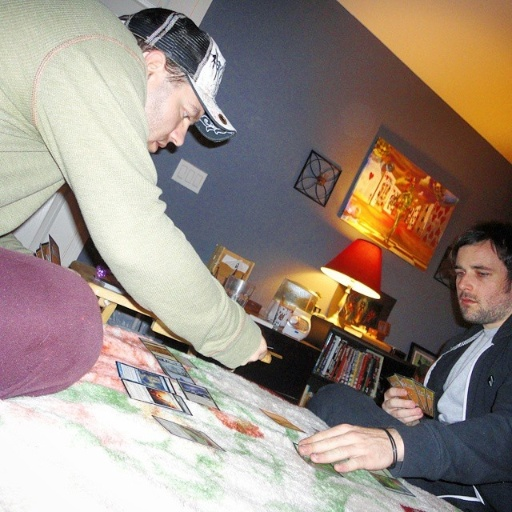hand: (293, 419, 406, 475), (382, 385, 424, 427), (238, 336, 269, 368)
